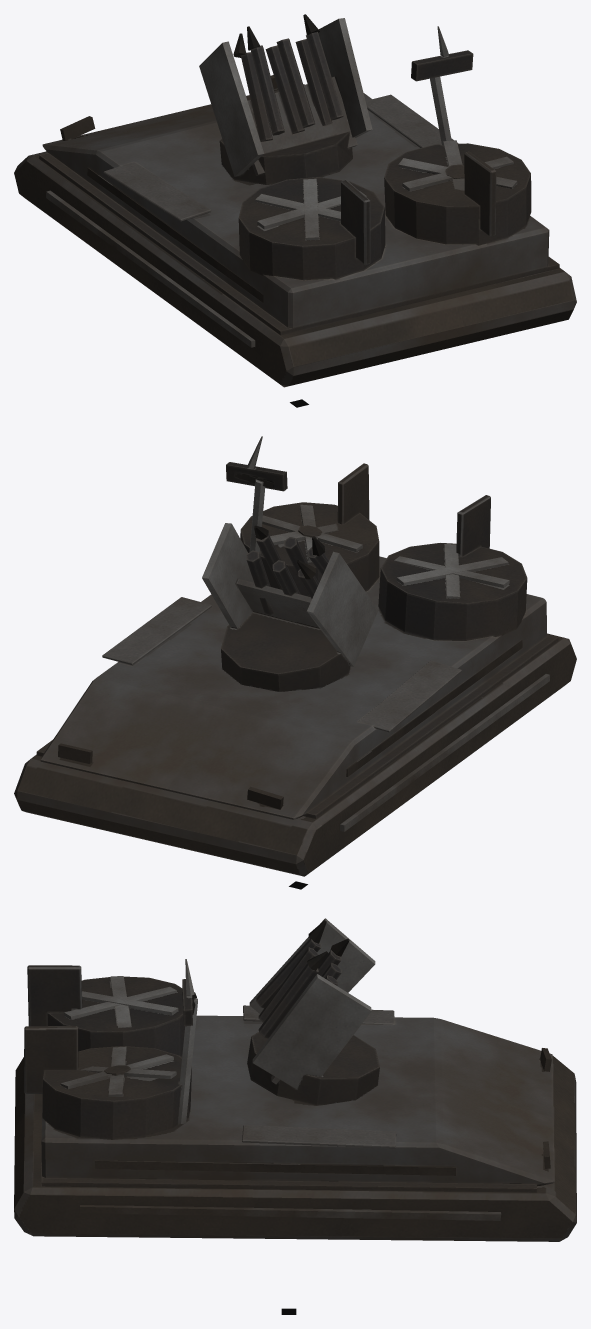
File: chs_skua_wreck.fbx
The picture shows the model from 3 angles, top to bottom: view 1: azimuth 30°, elevation 25°; view 2: azimuth 150°, elevation 25°; view 3: azimuth 270°, elevation 25°; orthographic projection.
Visible parts, largest first — view 1: base_bar, turret_bar, fan1_bar, fan2_bar; view 2: base_bar, turret_bar, fan1_bar, fan2_bar; view 3: base_bar, turret_bar, fan1_bar, fan2_bar.
Part boxes in pixels (box(x1,y1,x2,y2)): base_bar: box(14, 26, 576, 387); turret_bar: box(199, 14, 372, 184); fan1_bar: box(255, 178, 366, 239); fan2_bar: box(398, 140, 517, 191); base_bar: box(14, 436, 576, 876); turret_bar: box(202, 523, 378, 691); fan1_bar: box(394, 544, 509, 598); fan2_bar: box(262, 504, 362, 561); base_bar: box(14, 959, 576, 1241); turret_bar: box(247, 918, 379, 1105); fan1_bar: box(64, 976, 178, 1028); fan2_bar: box(60, 1046, 176, 1096).
Size of the model in its own units: 472 by 589 by 760.
Materials: 2 (2 with a texture image).
